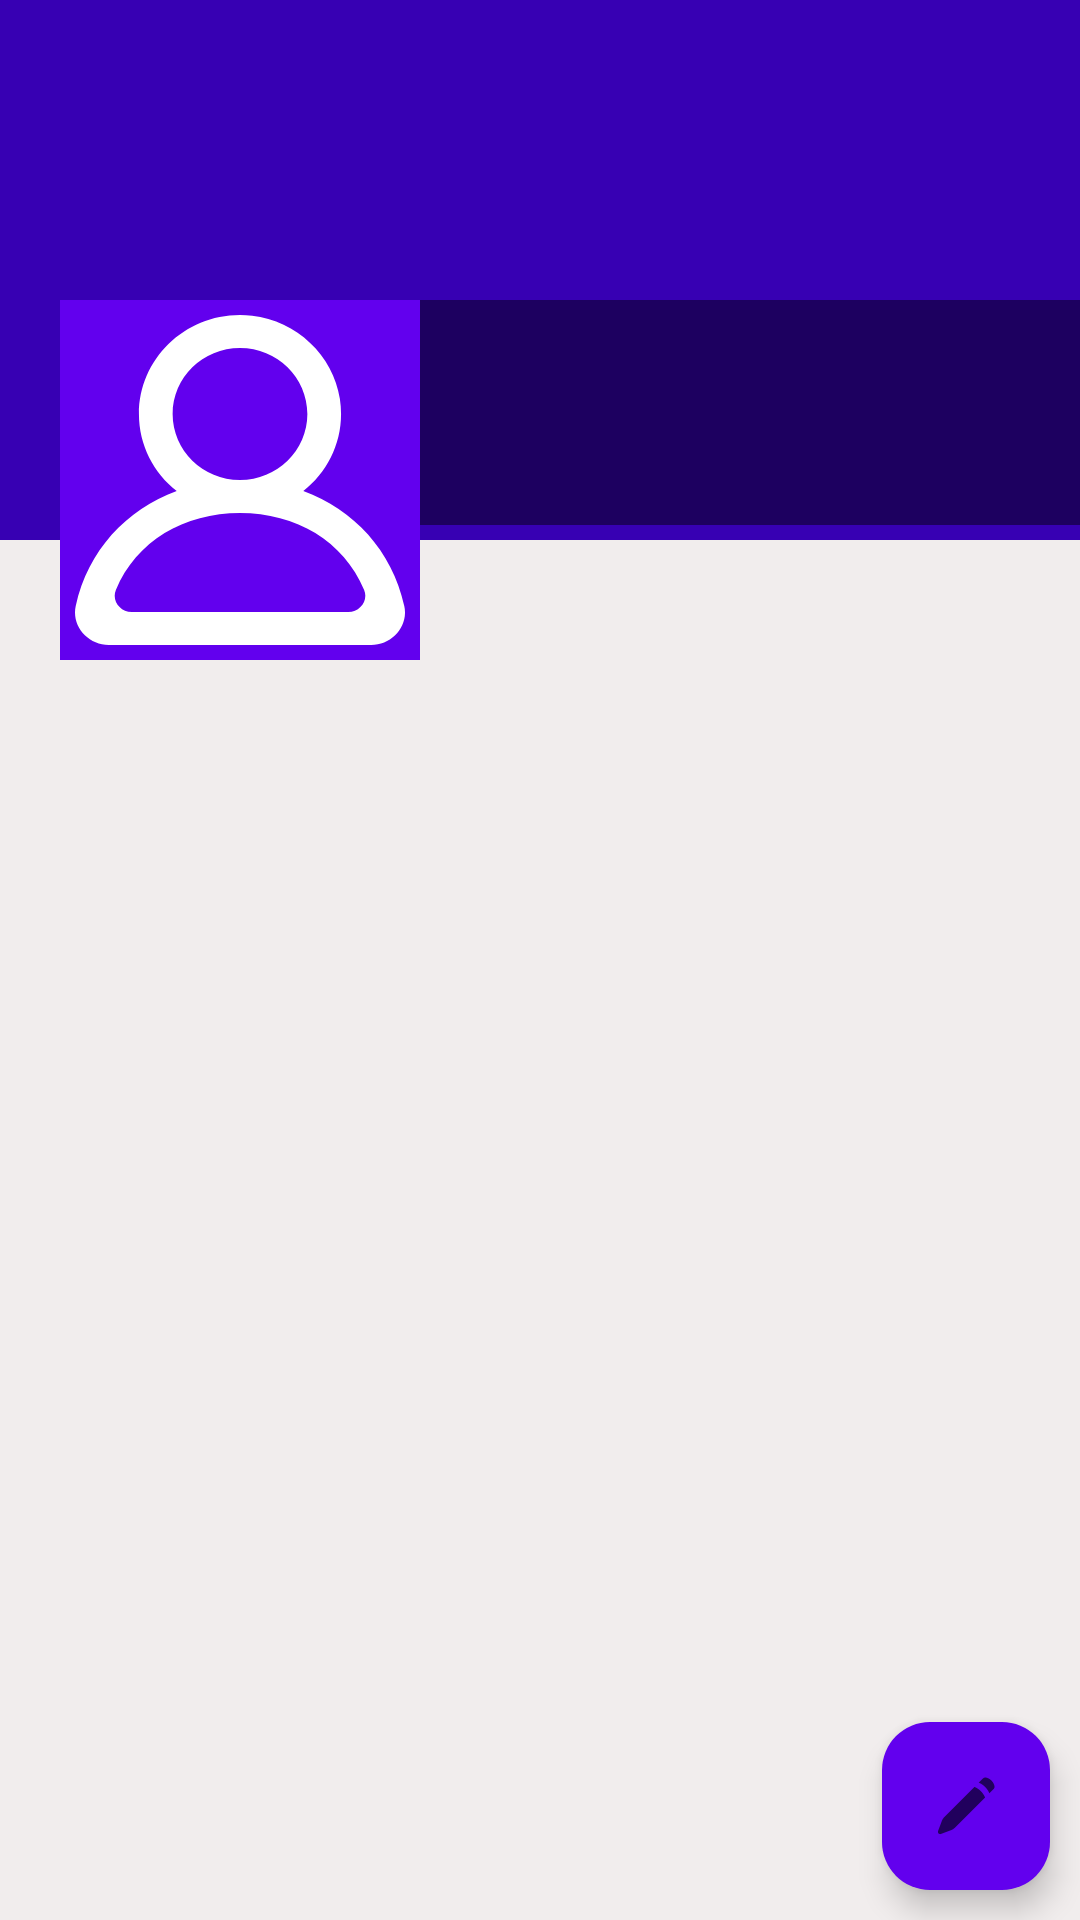

Point at icon controls on the screen. Image size 1080 x 1920, points as (x,y).
edit: (966,1806)
profile: (240,480)
